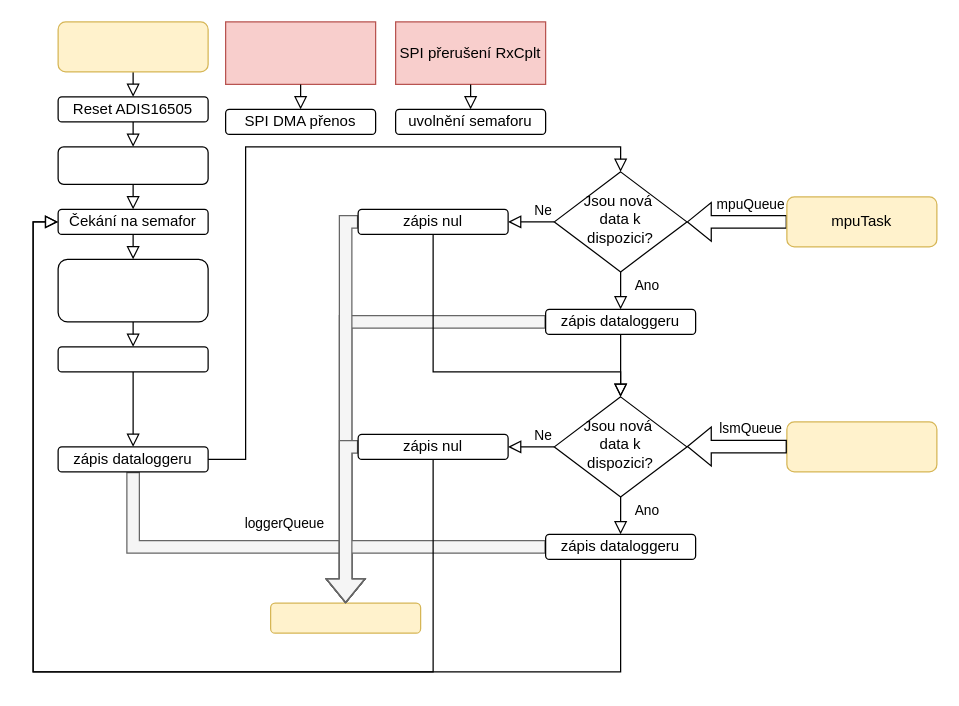
Image size: 959x706. Some labels were removed from this diagram. The shapes that lost their labels are listed below. From the top down, each one's box as (x1, y1, x2, y2) in pixels, then its label:
(57, 21, 208, 72): StartAdisTask
(224, 21, 376, 84): GPIO přerušení IMU data ready
(57, 146, 208, 184): Inicializace ADIS16505
(57, 258, 208, 322): Přepočet dat do fyzikálních jednotek, kalibrační konstanty
(57, 346, 208, 372): Uložení GUI statistik
(786, 421, 937, 472): lsmTask
(269, 602, 421, 633): loggerTask
